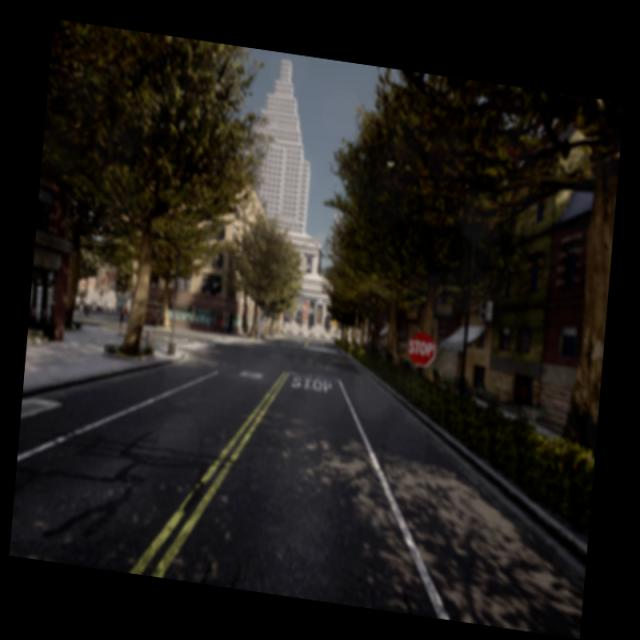stop sign: (405, 328, 438, 370), (408, 337, 434, 358)
